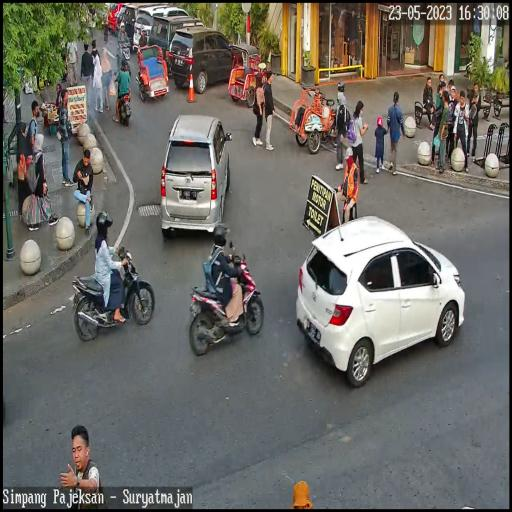mobil: (289, 219, 464, 388), (162, 114, 231, 235), (169, 26, 236, 91), (150, 17, 208, 75), (134, 5, 190, 59)
motor: (182, 249, 266, 357), (70, 243, 156, 346), (114, 68, 133, 126)
